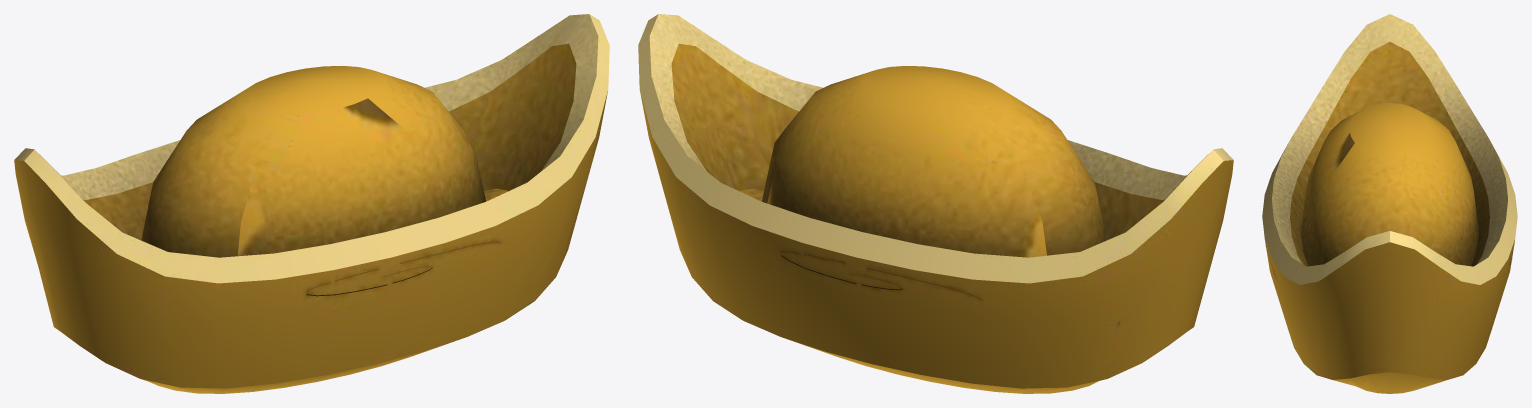
3 renders of one model, left to right at view 1: azimuth 30°, elevation 25°; view 2: azimuth 150°, elevation 25°; view 3: azimuth 270°, elevation 25°, orthographic. The views are drawn at different scales.
Parts seen in each view (by area): view 1: Mirror_gold, Rolled_gold_highlights, Recessed_gold_engraving; view 2: Mirror_gold, Rolled_gold_highlights, Recessed_gold_engraving; view 3: Mirror_gold, Rolled_gold_highlights.
Part boxes in pixels (x1=…): Mirror_gold: x1=14, y1=43, x2=607, y2=393; Rolled_gold_highlights: x1=14, y1=14, x2=609, y2=283; Recessed_gold_engraving: x1=306, y1=241, x2=500, y2=296; Mirror_gold: x1=640, y1=43, x2=1233, y2=393; Rolled_gold_highlights: x1=638, y1=14, x2=1233, y2=283; Recessed_gold_engraving: x1=780, y1=251, x2=982, y2=300; Mirror_gold: x1=1265, y1=42, x2=1514, y2=393; Rolled_gold_highlights: x1=1262, y1=14, x2=1517, y2=284.
Size of the model in its own units: 1 by 0.44 by 0.48.
Materials: 3 (3 with a texture image).
